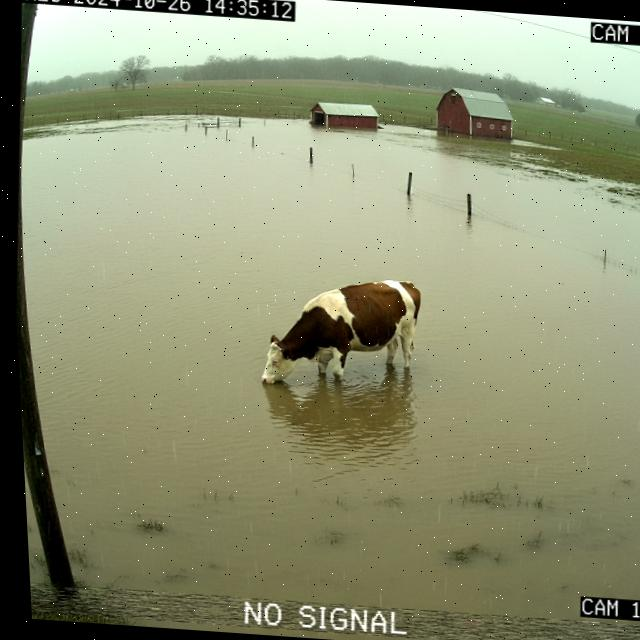cat: (240, 260, 441, 408)
